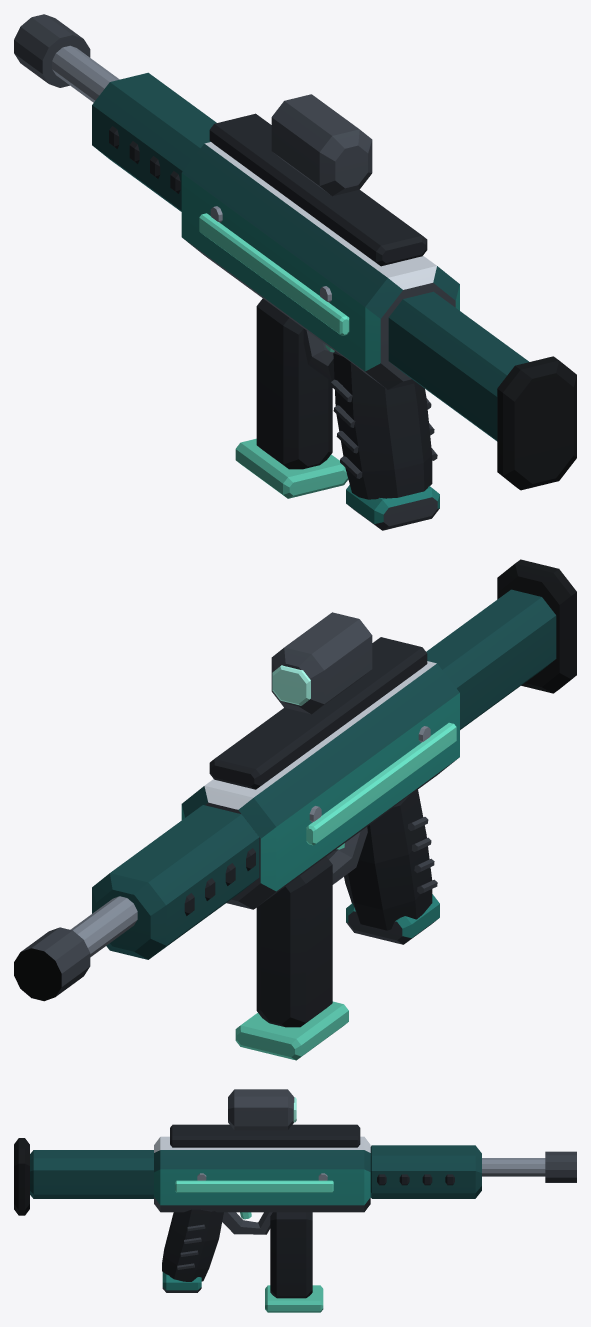
The model's file is RifleAssault.fbx.
3 views of the same model, one above another, from view 1: azimuth 30°, elevation 25°; view 2: azimuth 150°, elevation 25°; view 3: azimuth 270°, elevation 25° (orthographic). The views are drawn at different scales.
Visible parts, largest first — view 1: Receiver, Stock, Grip, Magazine, Handguard, TopRail, ButtPad, OpticHousing, SideAccentL, MagazineHeel, MuzzleBrake, GripHeel (+3 smaller); view 2: Receiver, Handguard, Magazine, Stock, TopRail, Grip, OpticHousing, ButtPad, MuzzleBrake, SideAccentL, MagazineHeel, Barrel (+4 smaller); view 3: Receiver, Stock, Handguard, TopRail, Magazine, Grip, OpticHousing, SideAccentR, Barrel, ButtPad, MagazineHeel, MuzzleBrake (+3 smaller).
Part boxes in pixels (bbox=[...]): Receiver: bbox=[181, 142, 459, 389]; Stock: bbox=[388, 291, 528, 441]; Grip: bbox=[333, 351, 432, 499]; Magazine: bbox=[256, 298, 332, 469]; Handguard: bbox=[92, 72, 216, 211]; TopRail: bbox=[209, 113, 427, 266]; ButtPad: bbox=[497, 356, 576, 490]; OpticHousing: bbox=[271, 94, 372, 196]; SideAccentL: bbox=[199, 213, 349, 335]; MagazineHeel: bbox=[235, 438, 348, 498]; MuzzleBrake: bbox=[14, 14, 90, 87]; GripHeel: bbox=[346, 485, 439, 530]; Receiver: bbox=[181, 661, 459, 909]; Handguard: bbox=[92, 805, 259, 959]; Magazine: bbox=[256, 856, 332, 1027]; Stock: bbox=[426, 589, 556, 729]; TopRail: bbox=[209, 637, 427, 789]; Grip: bbox=[344, 789, 432, 930]; OpticHousing: bbox=[271, 612, 372, 714]; ButtPad: bbox=[497, 559, 576, 693]; MuzzleBrake: bbox=[14, 927, 90, 1001]; SideAccentL: bbox=[306, 722, 456, 845]; MagazineHeel: bbox=[235, 1001, 348, 1060]; Barrel: bbox=[70, 896, 137, 957]; Receiver: bbox=[154, 1136, 370, 1212]; Stock: bbox=[30, 1150, 153, 1198]; Handguard: bbox=[370, 1145, 481, 1198]; TopRail: bbox=[170, 1124, 360, 1147]; Magazine: bbox=[270, 1212, 312, 1298]; Grip: bbox=[162, 1209, 223, 1281]; OpticHousing: bbox=[228, 1089, 294, 1130]; SideAccentR: bbox=[175, 1180, 333, 1192]; Barrel: bbox=[482, 1158, 545, 1176]; ButtPad: bbox=[14, 1138, 29, 1215]; MagazineHeel: bbox=[265, 1285, 323, 1312]; MuzzleBrake: bbox=[545, 1151, 576, 1182].
Bounding box in the file's own units: 0.142 × 0.4425 × 1.07.
Materials: 1 (1 with a texture image).
